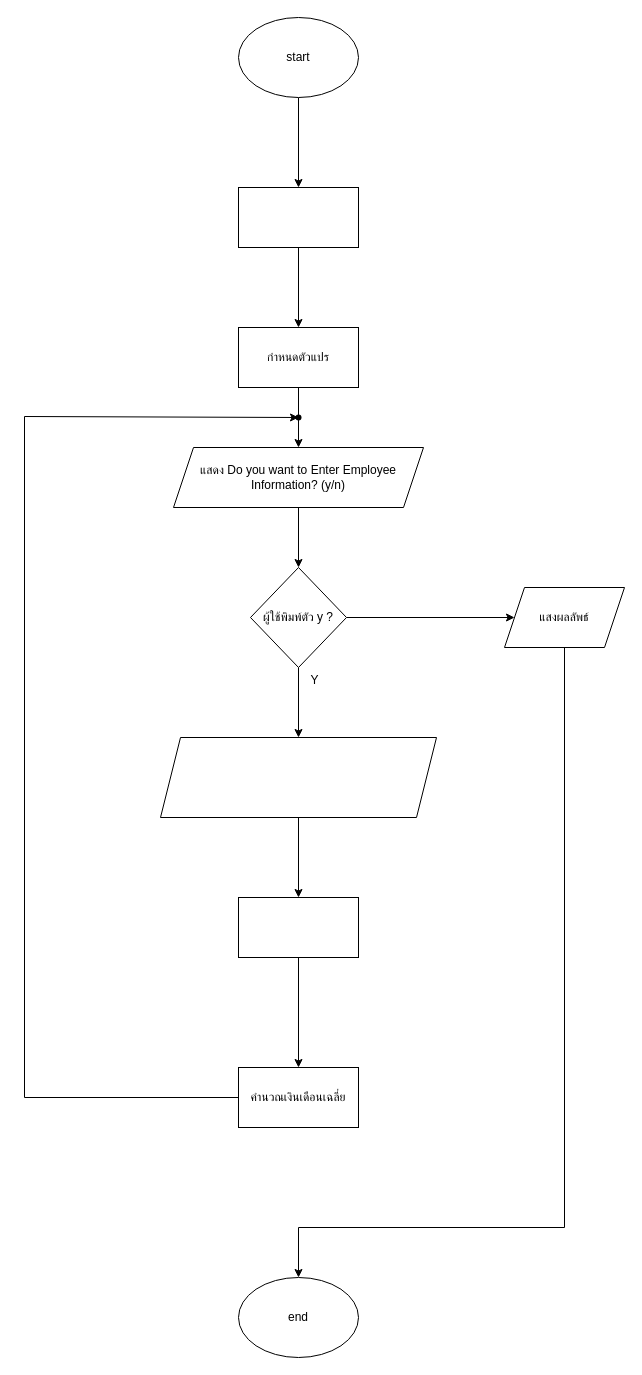
The diagram is 642 pixels wide and 1375 high, and some of its shapes have lost their labels. Each missing label, with the centre of its shape:
"ประกาศโครงสร้าง struct" goes at pixel 298 217.
"รับข้อมูลพนักงาน ชื่อ เงินเดือน ระยะปีที่ทำงาน" goes at pixel 298 777.
"เปรียบเทียบอายุปีการทำงาน" goes at pixel 298 927.
